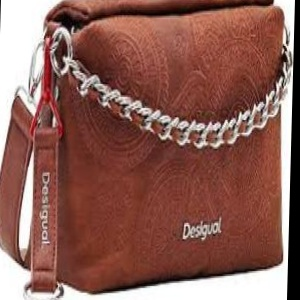desigual: (100, 78, 293, 300), (30, 76, 78, 257)
